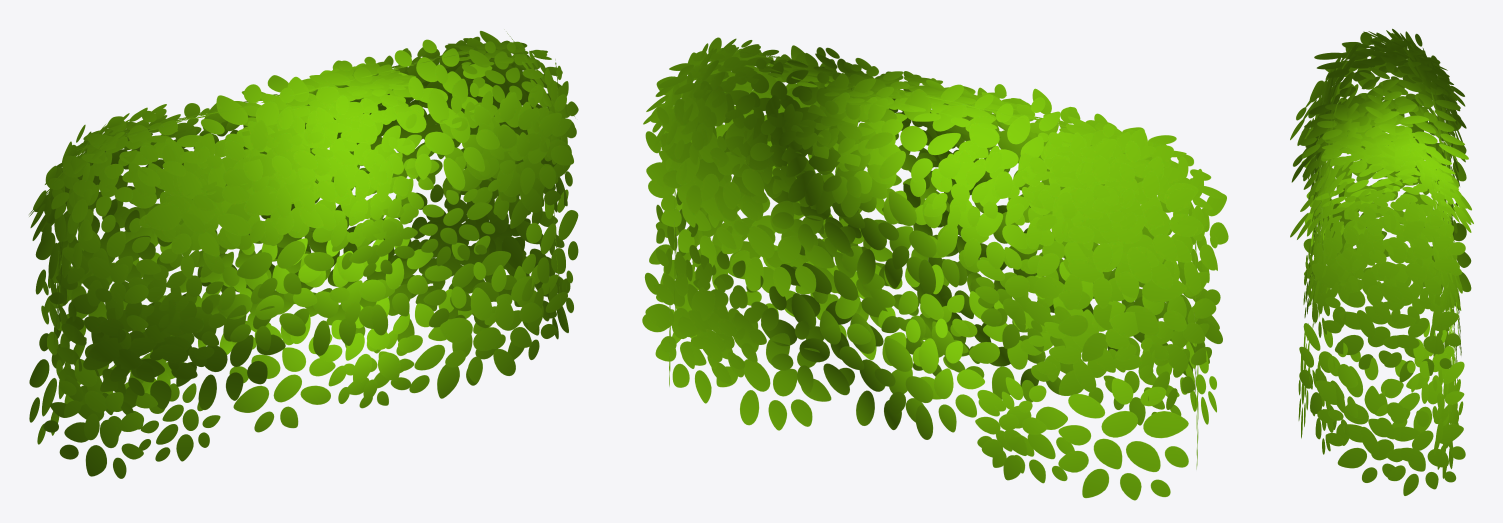
The model's file is bush_large.glb.
The picture shows the model from 3 angles, left to right: view 1: azimuth 30°, elevation 25°; view 2: azimuth 150°, elevation 25°; view 3: azimuth 270°, elevation 25°; orthographic projection. The views are drawn at different scales.
Parts seen in each view (by area): view 1: Bush_Large; view 2: Bush_Large; view 3: Bush_Large.
Part boxes in pixels (bbox=[...]): Bush_Large: bbox=[29, 31, 578, 478]; Bush_Large: bbox=[642, 37, 1228, 500]; Bush_Large: bbox=[1290, 28, 1473, 495].
Size of the model in its own units: 1.9 by 1.22 by 0.7239.
1 material, 1 textured.
